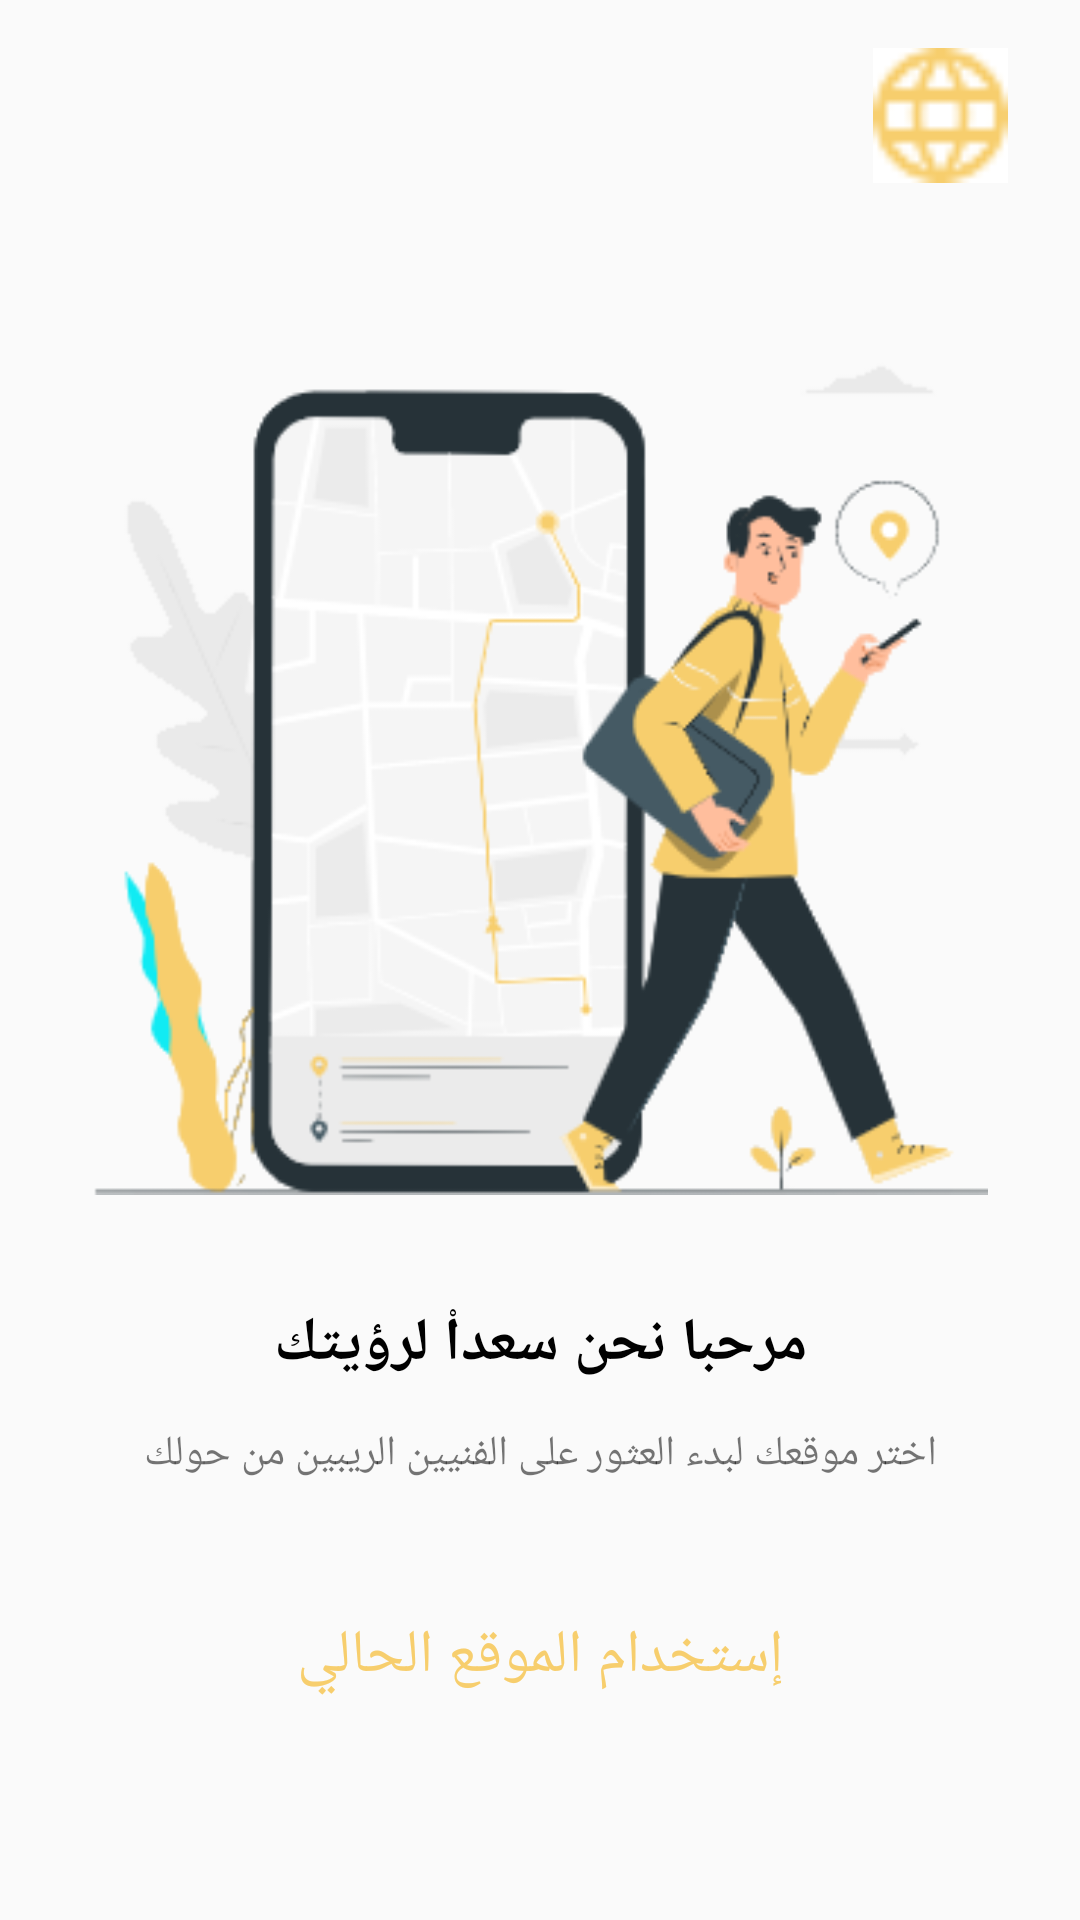

Named icons in this screenshot (1080×1920) and their bounding boxes, [x1,y1,x2,y2]:
earth: [873,48,1008,183]
